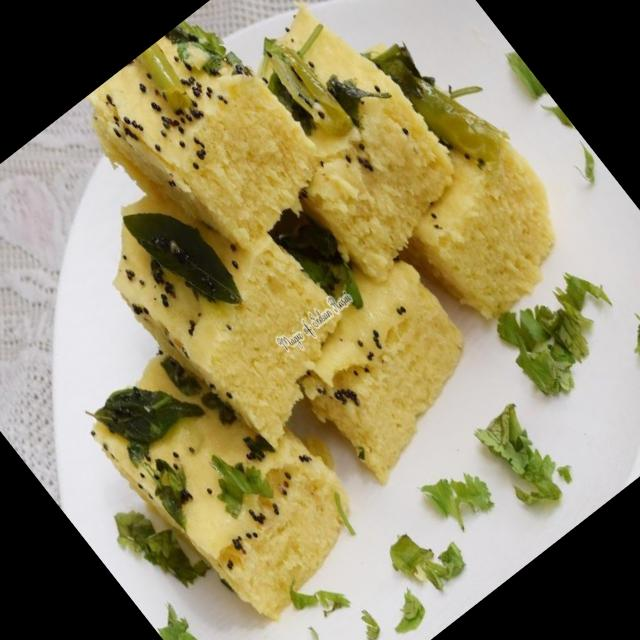dhokla: (19, 0, 615, 523), (76, 308, 382, 630)
